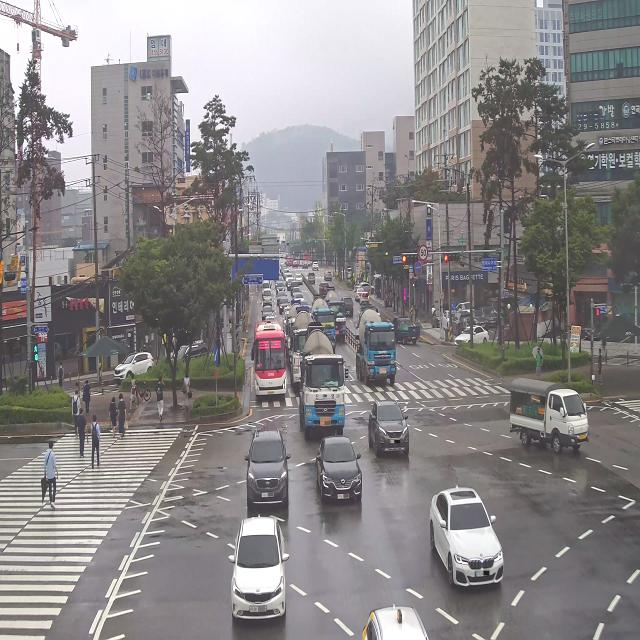Bus: (252, 316, 290, 402)
Car: (221, 508, 305, 633), (426, 481, 510, 598), (231, 428, 295, 515), (313, 424, 362, 514), (365, 389, 416, 470), (113, 344, 158, 380), (456, 317, 488, 358), (172, 336, 212, 368), (452, 308, 468, 336), (482, 303, 497, 331), (338, 292, 354, 318), (469, 305, 484, 331), (431, 304, 445, 330), (456, 299, 476, 315), (358, 288, 372, 309), (442, 306, 453, 328), (355, 282, 375, 294), (260, 307, 274, 320), (279, 296, 289, 314), (306, 270, 317, 286), (322, 269, 334, 283), (295, 271, 304, 288), (277, 290, 286, 304), (276, 280, 285, 293), (292, 285, 302, 296), (312, 260, 321, 272), (296, 293, 306, 302), (301, 261, 309, 271), (289, 280, 297, 289), (288, 279, 291, 290)
Truck: (503, 368, 594, 462), (299, 331, 349, 440), (354, 306, 402, 391), (392, 302, 425, 352), (290, 324, 314, 389), (328, 288, 349, 350), (310, 293, 335, 344), (282, 314, 298, 362), (261, 285, 273, 307), (260, 276, 270, 292)
